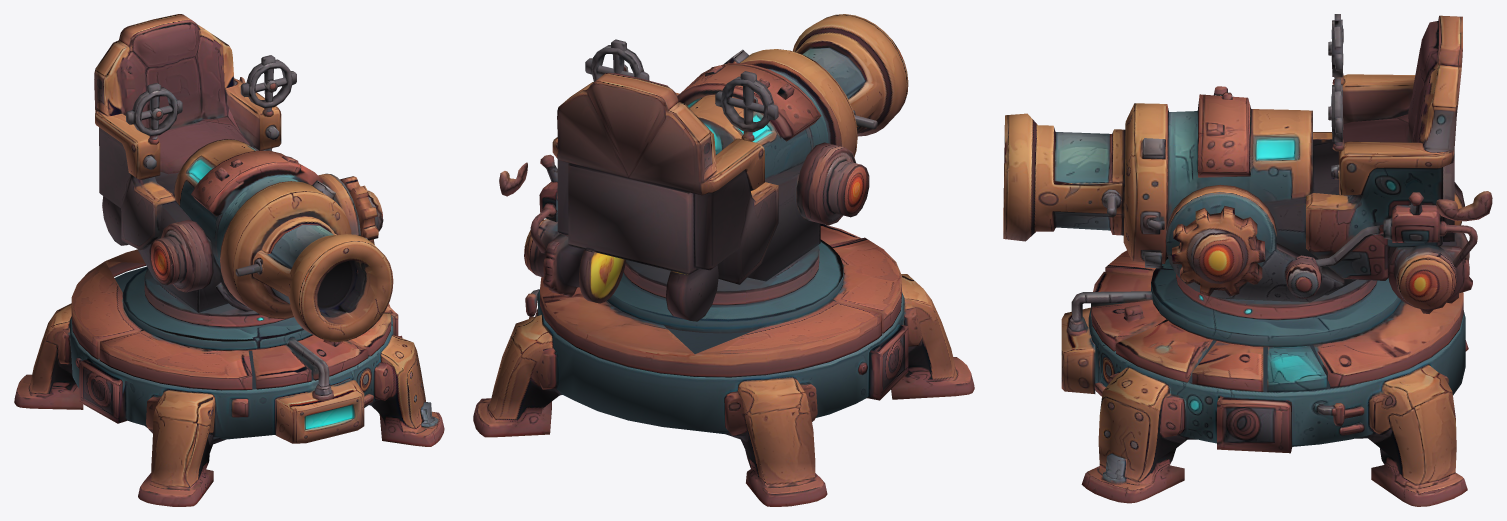
The model's file is clockwork-bastion-ready.glb.
3 renders of one model, left to right at view 1: azimuth 30°, elevation 25°; view 2: azimuth 150°, elevation 25°; view 3: azimuth 270°, elevation 25°, orthographic. The views are drawn at different scales.
Visible parts, largest first — view 1: base, head, recoil; view 2: head, base, recoil; view 3: head, base, recoil.
Boxes of the visible parts, x1,y1,x2,y2 form: base: [14, 249, 444, 506]; head: [94, 14, 383, 345]; recoil: [173, 139, 393, 341]; head: [499, 39, 877, 326]; base: [473, 223, 974, 506]; recoil: [677, 14, 908, 178]; head: [1101, 14, 1492, 340]; base: [1061, 250, 1468, 506]; recoil: [1003, 94, 1312, 263].
Size of the model in its own units: 25.56 by 26.53 by 29.99.
1 material, 1 textured.
